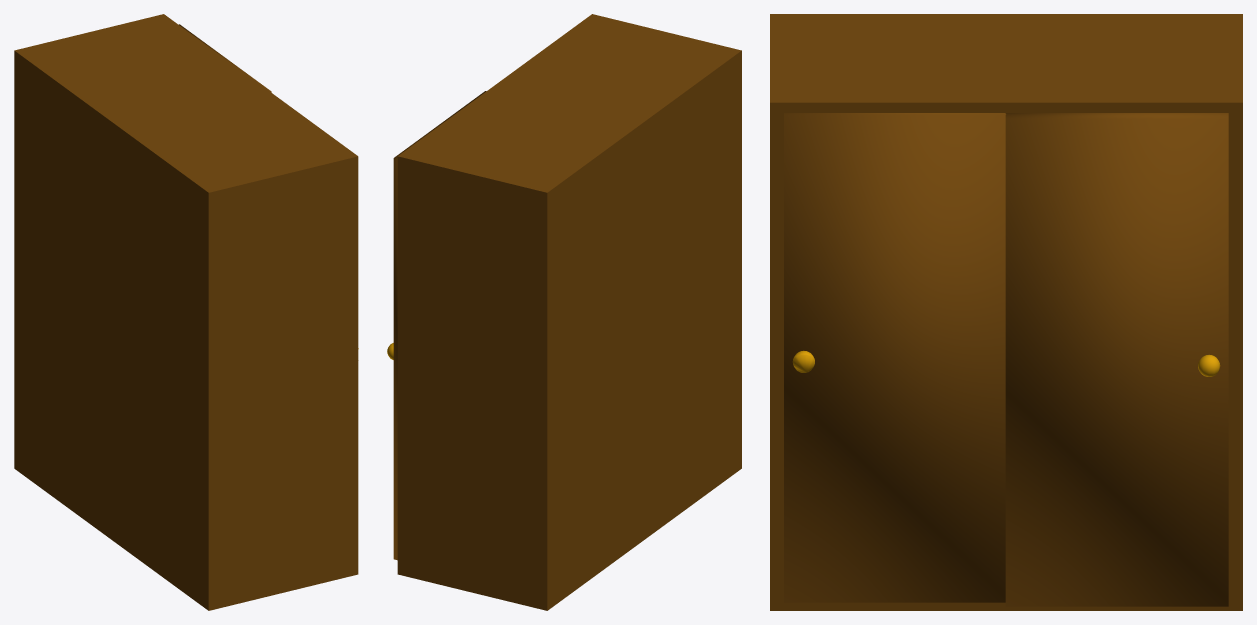
The model's file is Wardrobe1.fbx.
The picture shows the model from 3 angles, left to right: view 1: azimuth 30°, elevation 25°; view 2: azimuth 150°, elevation 25°; view 3: azimuth 270°, elevation 25°; orthographic projection. The views are drawn at different scales.
Visible parts, largest first — view 1: Body; view 2: Body, Door; view 3: Door, DoorClosed, Body.
Boxes of the visible parts, <box> form: Body: <box>14,14,358,610</box>; Body: <box>397,14,741,610</box>; Door: <box>393,91,486,560</box>; Door: <box>1005,113,1228,606</box>; DoorClosed: <box>784,113,1005,602</box>; Body: <box>770,14,1242,610</box>.
Size of the model in its own units: 86.54 by 200 by 169.
